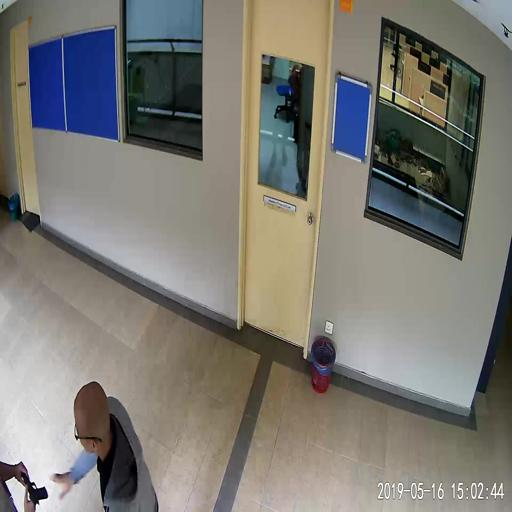pistol: (20, 466, 47, 504)
